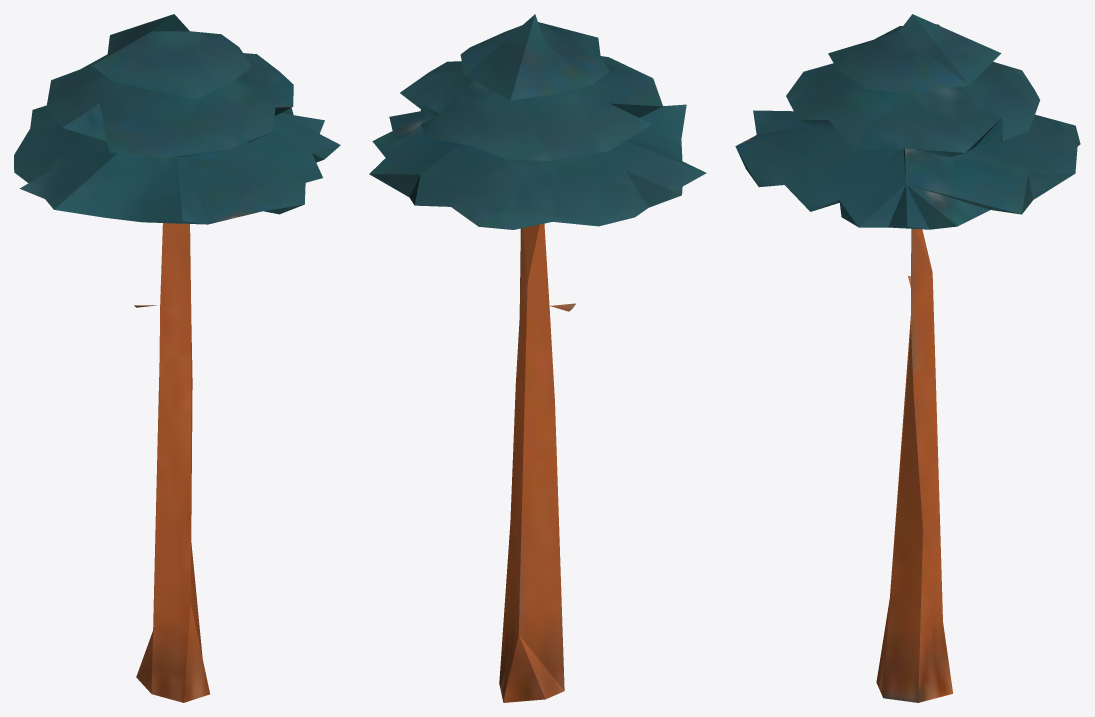
Rendered from tree_pine.lod3.glb.
3 views of the same model, side by side, from view 1: azimuth 30°, elevation 25°; view 2: azimuth 150°, elevation 25°; view 3: azimuth 270°, elevation 25° (orthographic).
Visible parts, largest first — view 1: tree_pine.lod3_uv; view 2: tree_pine.lod3_uv; view 3: tree_pine.lod3_uv.
Part boxes in pixels (x1,y1,x2,y2): tree_pine.lod3_uv: (14, 14, 340, 702); tree_pine.lod3_uv: (369, 14, 706, 702); tree_pine.lod3_uv: (735, 14, 1080, 702).
Size of the model in its own units: 0.8669 by 1.87 by 0.8685.
Materials: 1 (1 with a texture image).
